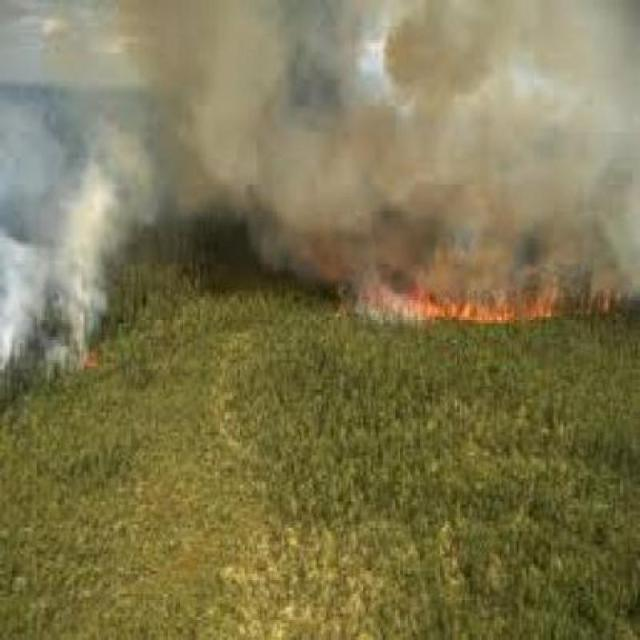Fire: (350, 268, 632, 324), (66, 346, 105, 364)
Smoke: (235, 74, 637, 284), (6, 162, 139, 362)
